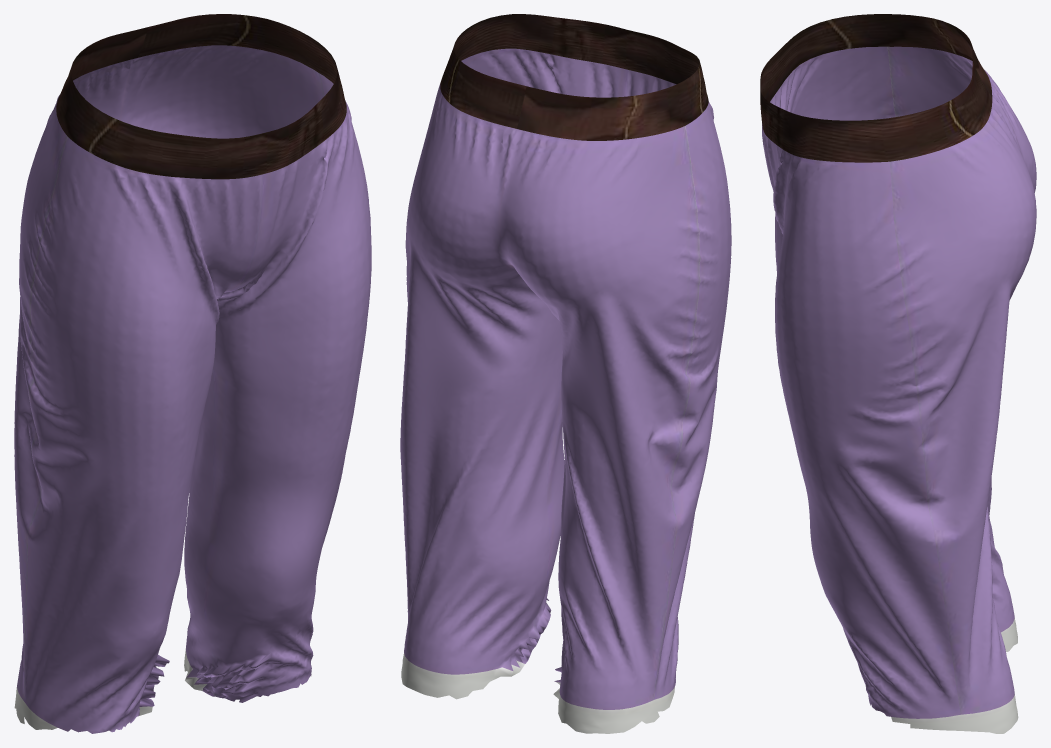
The model's file is female_purple_trouser_34.glb.
3 views of the same model, side by side, from view 1: azimuth 30°, elevation 25°; view 2: azimuth 150°, elevation 25°; view 3: azimuth 270°, elevation 25° (orthographic). The views are drawn at different scales.
Visible parts, largest first — view 1: casual_trousers_2_woman_ref.001; view 2: casual_trousers_2_woman_ref.001; view 3: casual_trousers_2_woman_ref.001.
Boxes of the visible parts, <box> form: casual_trousers_2_woman_ref.001: <box>14,14,371,733</box>; casual_trousers_2_woman_ref.001: <box>400,14,731,733</box>; casual_trousers_2_woman_ref.001: <box>760,14,1036,733</box>.
Size of the model in its own units: 0.4318 by 0.89 by 0.36.
6 materials, 6 textured.
